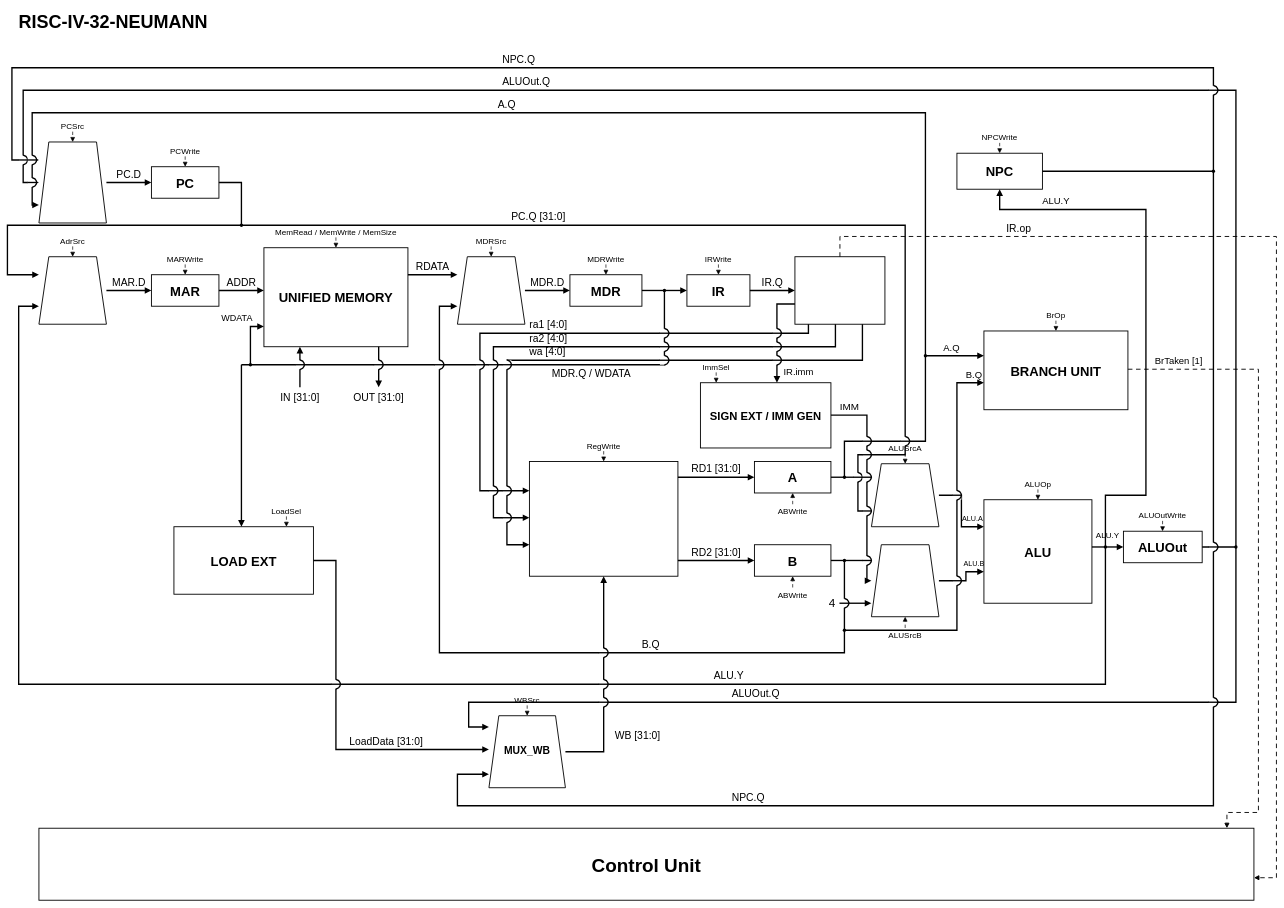
This 1284x908 diagram has some shape labels left out. The centre of each missing label's shape, as x and y in pixels:
"FIELD DECODE" goes at (839,290).
"MUX_A" goes at (905,495).
"MUX_B" goes at (905,580).
"MUX_MAR" goes at (72,290).
"MUX_MDR" goes at (491,290).
"MUX_PC" goes at (72,182).
"RF" goes at (603,518).
